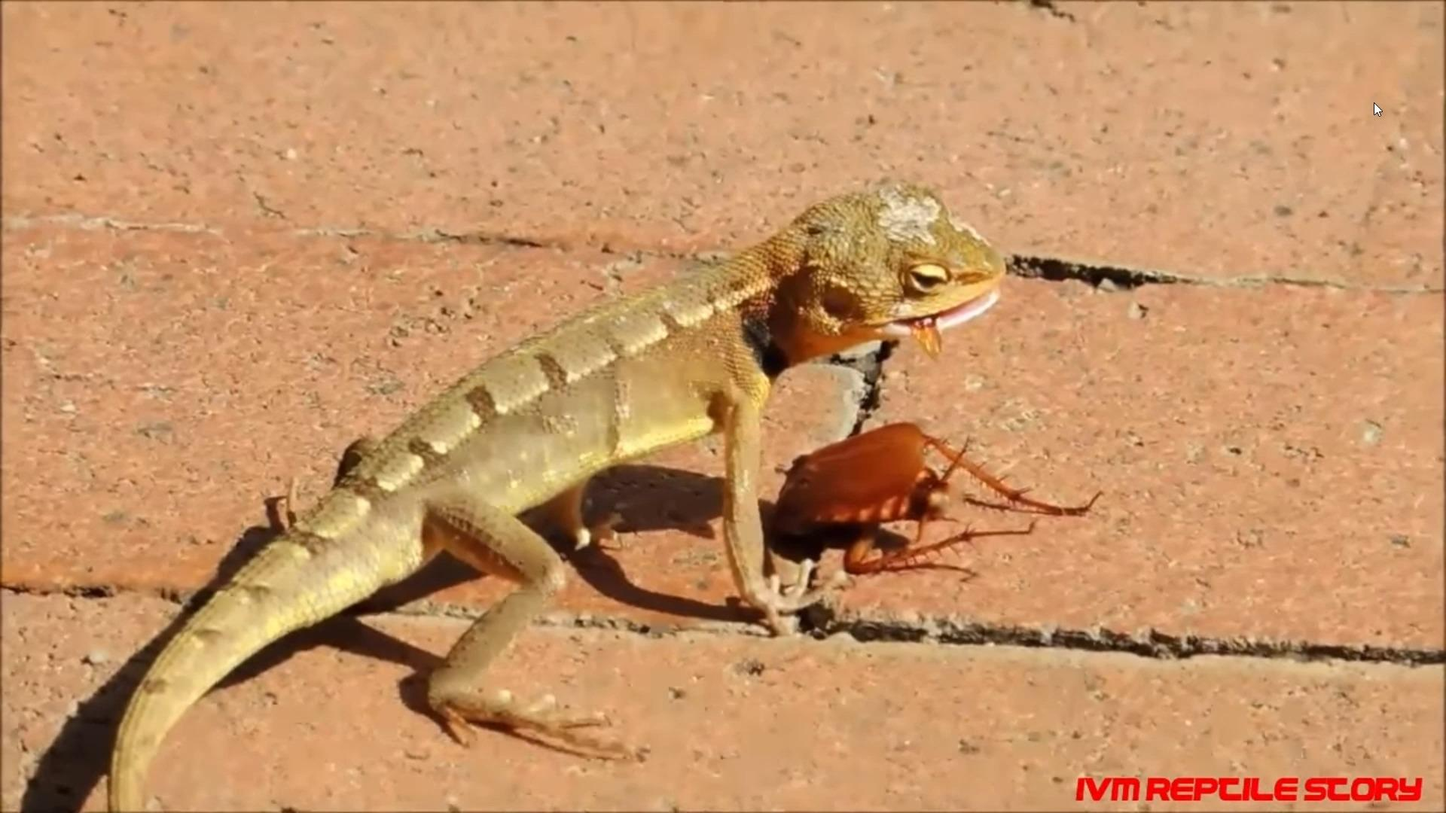cockroach: (780, 427, 986, 580)
lizard: (230, 161, 1012, 725)
